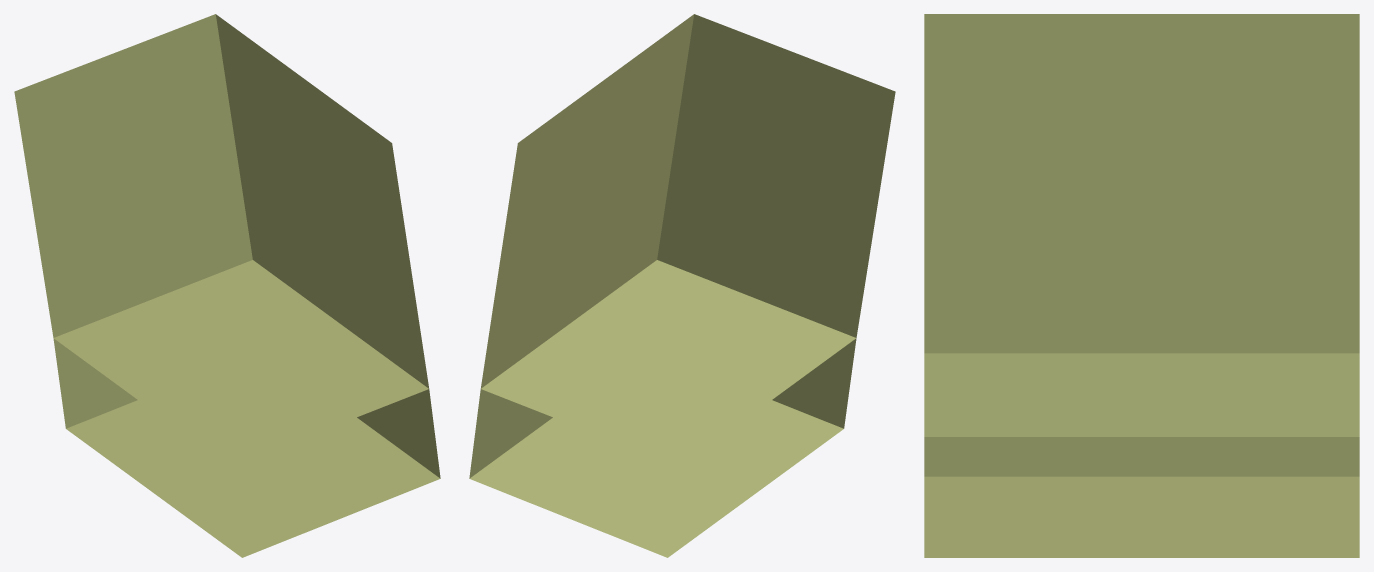
3 renders of one model, left to right at view 1: azimuth 30°, elevation 25°; view 2: azimuth 150°, elevation 25°; view 3: azimuth 270°, elevation 25°, orthographic. The views are drawn at different scales.
Parts seen in each view (by area): view 1: 0_1_3_2_1_1_2_0_0_1; view 2: 0_1_3_2_1_1_2_0_0_1; view 3: 0_1_3_2_1_1_2_0_0_1.
Boxes of the visible parts, x1,y1,x2,y2 form: 0_1_3_2_1_1_2_0_0_1: [14, 14, 440, 557]; 0_1_3_2_1_1_2_0_0_1: [469, 14, 895, 557]; 0_1_3_2_1_1_2_0_0_1: [924, 14, 1359, 557].
Bounding box in the file's own units: 7.36 × 10.65 × 9.
